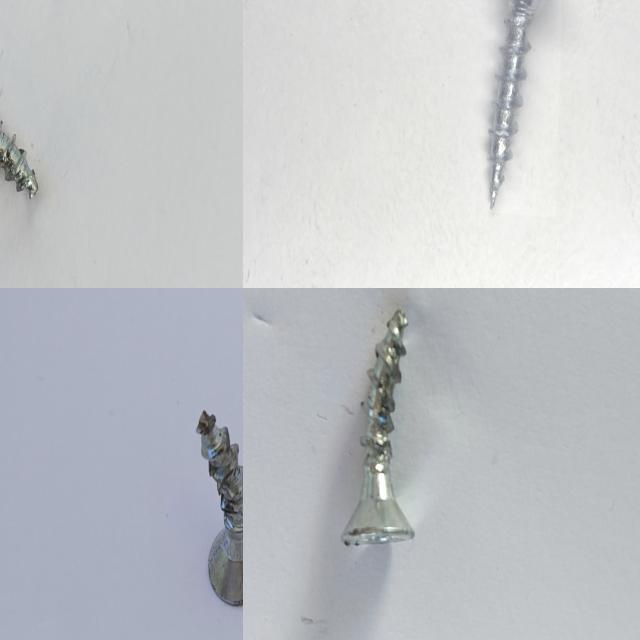Screw: (341, 309, 414, 545), (489, 0, 539, 208), (196, 409, 243, 604), (0, 121, 38, 197)
